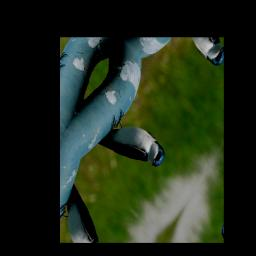Swallow: (96, 100, 170, 192)
